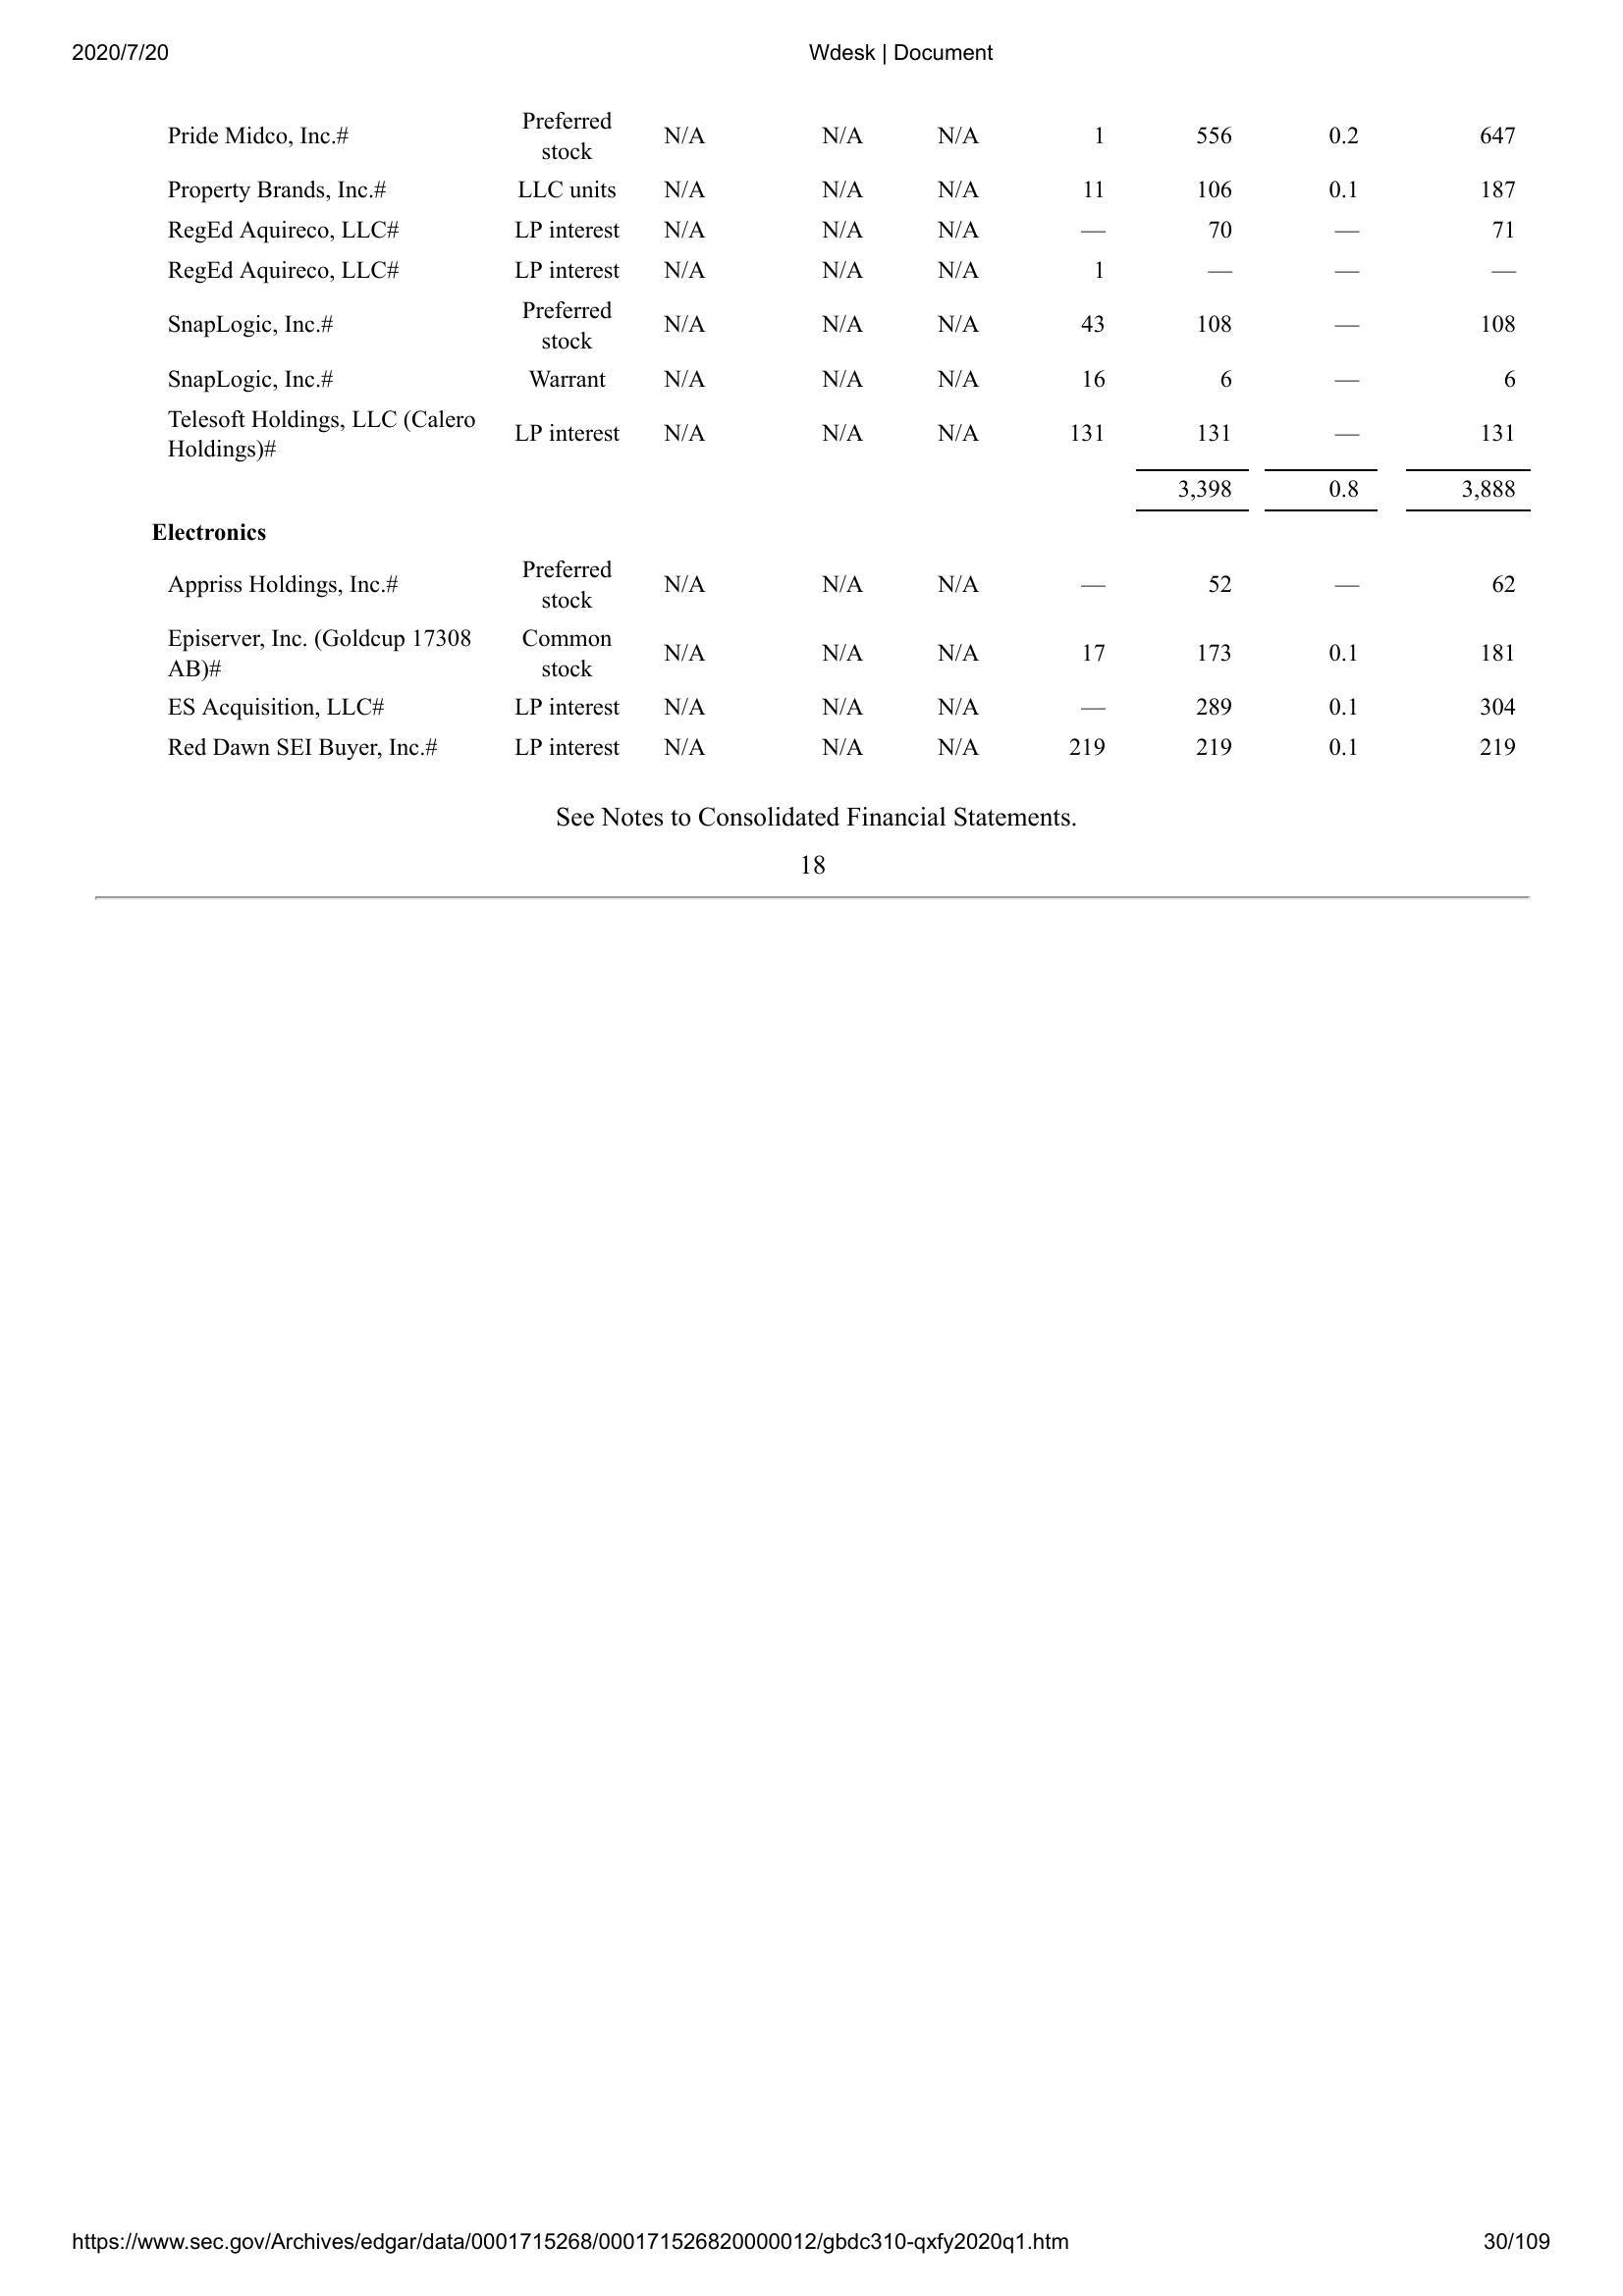table: (151, 102, 1539, 767)
